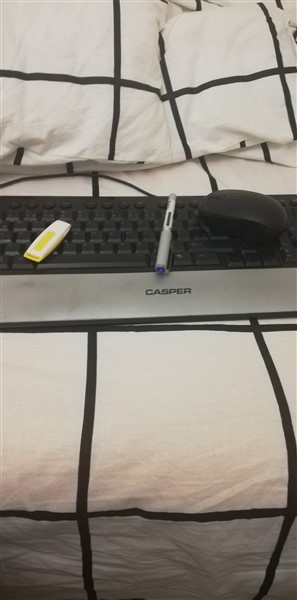flash disk: (23, 218, 75, 268)
klavye: (1, 193, 296, 326)
mouse: (194, 186, 289, 250)
pilot kalem: (154, 190, 179, 279)
